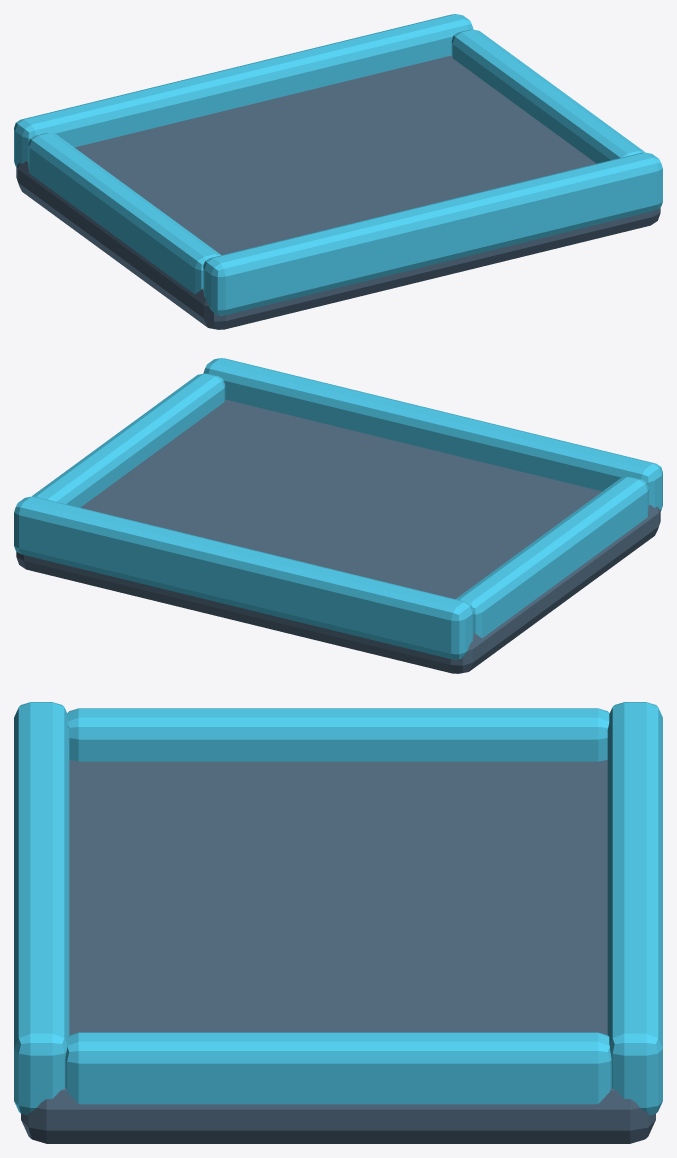
File: oven_tray.glb
The picture shows the model from 3 angles, top to bottom: view 1: azimuth 30°, elevation 25°; view 2: azimuth 150°, elevation 25°; view 3: azimuth 270°, elevation 25°; orthographic projection. The views are drawn at different scales.
Visible parts, largest first — view 1: Tray base, Long rim, Long rim.001, Short rim, Short rim.001; view 2: Tray base, Long rim.001, Long rim, Short rim, Short rim.001; view 3: Tray base, Short rim.001, Short rim, Long rim, Long rim.001.
Boxes of the visible parts, <box> form: Tray base: <box>16,55,660,329</box>; Long rim: <box>203,152,662,315</box>; Long rim.001: <box>14,14,473,167</box>; Short rim: <box>28,133,221,294</box>; Short rim.001: <box>451,29,644,163</box>; Tray base: <box>16,399,660,673</box>; Long rim.001: <box>14,496,473,659</box>; Long rim: <box>203,358,662,511</box>; Short rim: <box>455,477,648,638</box>; Short rim.001: <box>32,373,225,507</box>; Tray base: <box>21,760,655,1143</box>; Short rim.001: <box>65,1032,611,1104</box>; Short rim: <box>67,708,609,761</box>; Long rim: <box>14,702,69,1115</box>; Long rim.001: <box>607,702,662,1115</box>.
Bounding box in the file's own units: 1 × 0.149 × 0.787.
